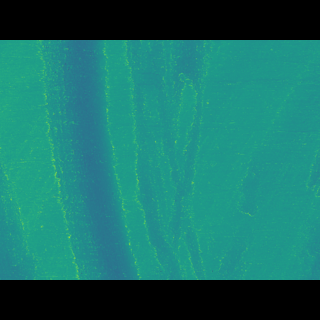Loch: (32, 68, 139, 249), (121, 67, 216, 249), (0, 158, 35, 250)
